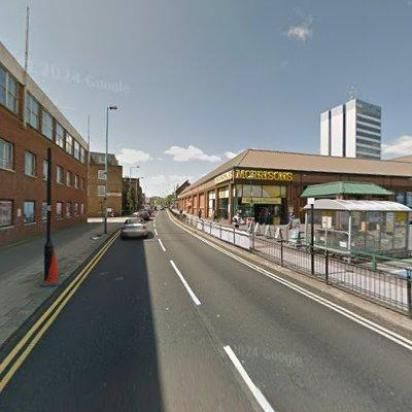moving-car: (119, 217, 149, 239), (138, 209, 150, 223), (159, 206, 165, 211)
